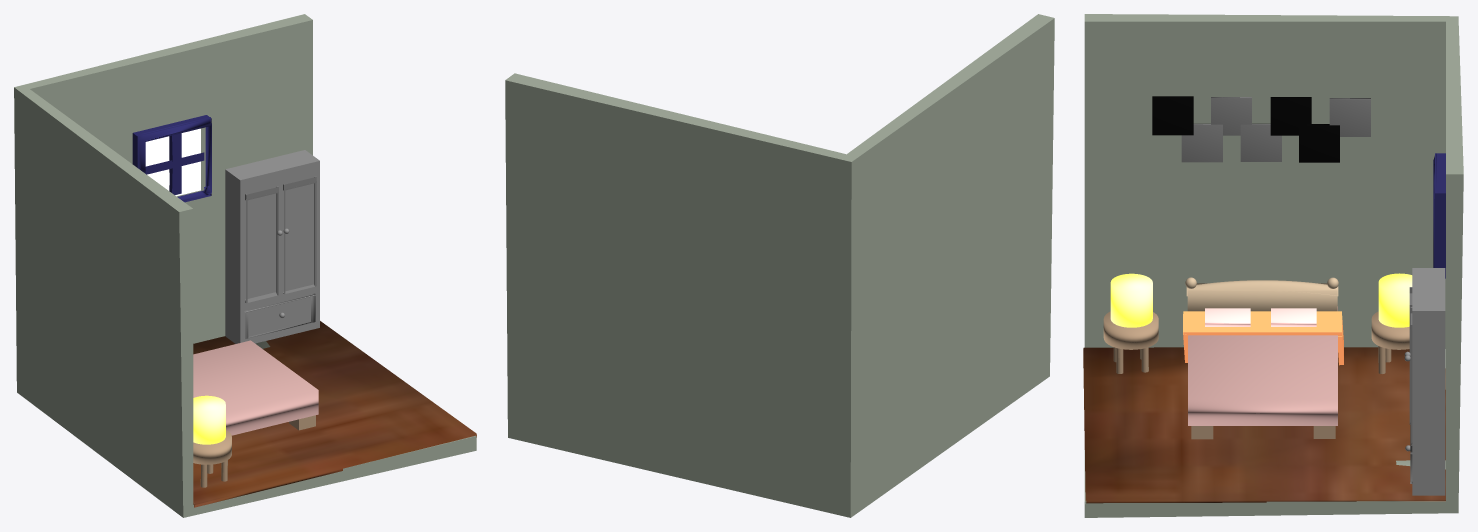
File: myhomeFive.glb
3 renders of one model, left to right at view 1: azimuth 30°, elevation 25°; view 2: azimuth 150°, elevation 25°; view 3: azimuth 270°, elevation 25°, orthographic. The views are drawn at different scales.
Visible parts, largest first — view 1: Cube.028, Cube.001, Cube.016, Cube.002, Cube.027, Cube.014, Cylinder.005, Cube.015, Cylinder, Cube.017, Cube.018, Cube.013 (+1 smaller); view 2: Cube.028; view 3: Cube.028, Cube.001, Cube.002, Cube.016, Cube.007, Cube.009, Cylinder.005, Cylinder.011, Cube.020, Cube.025, Cube.021, Cube.026 (+9 smaller).
Boxes of the visible parts, bbox=[...] form: Cube.028: bbox=[14, 14, 476, 517]; Cube.001: bbox=[193, 321, 476, 507]; Cube.016: bbox=[225, 150, 319, 343]; Cube.002: bbox=[193, 340, 318, 435]; Cube.027: bbox=[145, 128, 200, 196]; Cube.014: bbox=[137, 117, 211, 200]; Cylinder.005: bbox=[193, 395, 225, 444]; Cube.015: bbox=[145, 133, 204, 194]; Cylinder: bbox=[193, 430, 231, 464]; Cube.017: bbox=[245, 186, 278, 303]; Cube.018: bbox=[283, 176, 316, 294]; Cube.013: bbox=[132, 115, 211, 202]; Cube.028: bbox=[505, 14, 1054, 517]; Cube.028: bbox=[1084, 14, 1463, 517]; Cube.001: bbox=[1083, 347, 1445, 503]; Cube.002: bbox=[1188, 306, 1337, 425]; Cube.016: bbox=[1412, 268, 1445, 495]; Cube.007: bbox=[1187, 283, 1337, 311]; Cube.009: bbox=[1183, 311, 1341, 336]; Cylinder.005: bbox=[1110, 273, 1152, 327]; Cylinder.011: bbox=[1378, 273, 1412, 327]; Cube.020: bbox=[1152, 96, 1193, 135]; Cube.025: bbox=[1299, 124, 1339, 162]; Cube.021: bbox=[1181, 123, 1222, 162]; Cube.026: bbox=[1329, 98, 1370, 136].
Size of the model in its own units: 7.46 by 7.44 by 7.46.
Materials: 46 (1 with a texture image).
